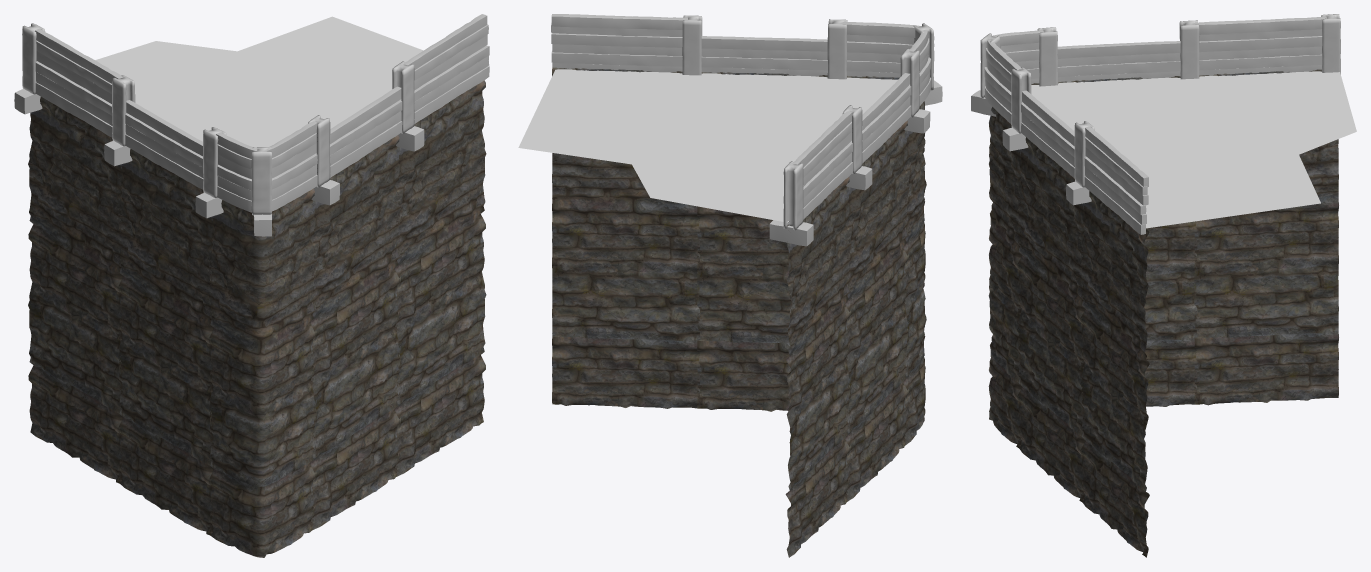
File: Steinmauer_Ecke_joint.fbx
3 renders of one model, left to right at view 1: azimuth 30°, elevation 25°; view 2: azimuth 150°, elevation 25°; view 3: azimuth 270°, elevation 25°, orthographic. The views are drawn at different scales.
Visible parts, largest first — view 1: Steinmauer_v2_joint_LOD0; view 2: Steinmauer_v2_joint_LOD0; view 3: Steinmauer_v2_joint_LOD0.
Part boxes in pixels (box(x1,y1,x2,y2)): Steinmauer_v2_joint_LOD0: box(14, 14, 489, 557); Steinmauer_v2_joint_LOD0: box(518, 14, 942, 557); Steinmauer_v2_joint_LOD0: box(971, 14, 1356, 557).
Size of what is drawn, in the model's own units: 358 by 376 by 345.
